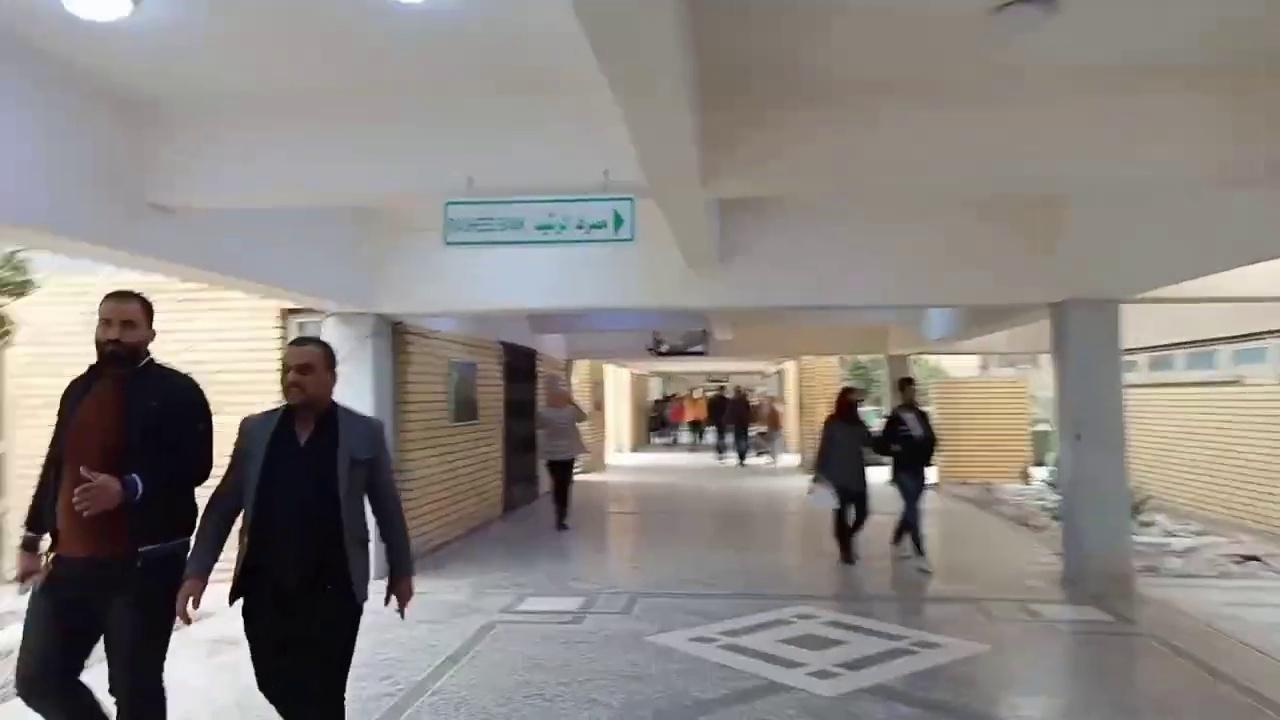person: (174, 335, 414, 719), (14, 289, 213, 719), (812, 386, 876, 565), (875, 376, 936, 560), (534, 372, 590, 531), (724, 384, 752, 466), (706, 385, 729, 460), (765, 395, 783, 462)
tree: (0, 245, 39, 345), (908, 355, 950, 409), (840, 358, 880, 404)
